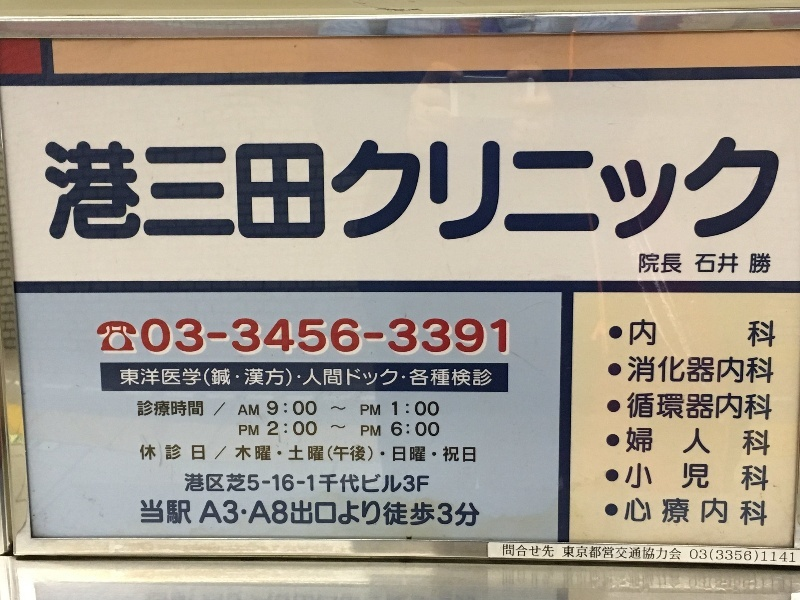text: (49, 135, 64, 253), (65, 135, 80, 253), (81, 135, 96, 253), (97, 135, 112, 253), (113, 135, 128, 253), (129, 135, 144, 253), (145, 135, 160, 253), (161, 135, 176, 253), (177, 135, 192, 253), (193, 135, 208, 253), (209, 135, 224, 253), (225, 135, 240, 253), (241, 135, 256, 253), (257, 135, 272, 253), (273, 135, 288, 253), (289, 135, 304, 253), (305, 135, 320, 253), (321, 135, 336, 253), (337, 135, 352, 253), (353, 135, 368, 253), (369, 135, 384, 253), (385, 135, 400, 253), (401, 135, 416, 253), (417, 135, 432, 253), (433, 135, 448, 253), (449, 135, 464, 253), (465, 135, 480, 253), (481, 135, 496, 253), (497, 135, 512, 253), (513, 135, 528, 253), (529, 135, 544, 253), (545, 135, 560, 253), (561, 135, 576, 253), (577, 135, 592, 253), (593, 135, 608, 253), (609, 135, 624, 253), (625, 135, 640, 253), (641, 135, 656, 253), (657, 135, 672, 253), (673, 135, 688, 253), (689, 135, 704, 253), (705, 135, 720, 253), (721, 135, 736, 253), (737, 135, 752, 253), (753, 135, 768, 253), (769, 135, 784, 253), (40, 135, 48, 253), (145, 315, 160, 359), (161, 315, 176, 359), (177, 315, 192, 359), (193, 315, 208, 359), (209, 315, 224, 359), (225, 315, 240, 359), (241, 315, 256, 359), (257, 315, 272, 359), (273, 315, 288, 359), (289, 315, 304, 359), (305, 315, 320, 359), (321, 315, 336, 359), (337, 315, 352, 359), (353, 315, 368, 359), (369, 315, 384, 359), (385, 315, 400, 359), (401, 315, 416, 359), (417, 315, 432, 359), (433, 315, 448, 359), (449, 315, 464, 359), (465, 315, 480, 359), (481, 315, 496, 359), (497, 315, 512, 359), (785, 135, 790, 253), (753, 498, 769, 530), (641, 354, 656, 388), (657, 354, 672, 388), (673, 354, 688, 388), (689, 354, 704, 388), (705, 354, 720, 388), (721, 354, 736, 388), (737, 354, 752, 388), (753, 354, 768, 388), (625, 390, 640, 423), (641, 390, 656, 423), (657, 390, 672, 423), (673, 390, 688, 423), (689, 390, 704, 423), (705, 390, 720, 423), (721, 390, 736, 423), (737, 390, 752, 423), (753, 390, 768, 423), (641, 426, 656, 458), (657, 426, 672, 458), (673, 426, 688, 458), (689, 426, 704, 458), (705, 426, 720, 458), (721, 426, 736, 458), (737, 426, 752, 458), (753, 426, 768, 458), (625, 498, 640, 530), (641, 498, 656, 530), (657, 498, 672, 530), (673, 498, 688, 530), (689, 498, 704, 530), (705, 498, 720, 530), (721, 498, 736, 530), (737, 498, 752, 530), (626, 426, 640, 458), (627, 354, 640, 388), (641, 320, 656, 349), (657, 320, 672, 349), (673, 320, 688, 349), (689, 320, 704, 349), (705, 320, 720, 349), (721, 320, 736, 349), (737, 320, 752, 349), (753, 320, 768, 349), (641, 465, 656, 493), (657, 465, 672, 493), (673, 465, 688, 493), (689, 465, 704, 493), (705, 465, 720, 493), (721, 465, 736, 493), (737, 465, 752, 493), (753, 465, 768, 493), (705, 250, 720, 277), (721, 250, 736, 277), (737, 250, 752, 277), (753, 250, 768, 277), (257, 501, 272, 527), (273, 501, 288, 527), (289, 501, 304, 527), (305, 501, 320, 527), (321, 501, 336, 527), (337, 501, 352, 527), (353, 501, 368, 527), (369, 501, 384, 527), (385, 501, 400, 527), (401, 501, 416, 527), (417, 501, 432, 527), (433, 501, 448, 527), (449, 501, 464, 527), (465, 501, 480, 527), (177, 501, 193, 525), (627, 465, 640, 493), (641, 253, 656, 277), (657, 253, 672, 277), (145, 501, 160, 525), (161, 501, 176, 525), (209, 501, 224, 525), (628, 320, 640, 349), (225, 501, 239, 525), (129, 367, 144, 389), (145, 367, 160, 389), (161, 367, 176, 389), (177, 367, 192, 389), (193, 367, 208, 389), (209, 367, 224, 389), (225, 367, 240, 389), (241, 367, 256, 389), (257, 367, 272, 389), (273, 367, 288, 389), (289, 367, 304, 389), (305, 367, 320, 389), (321, 367, 336, 389), (337, 367, 352, 389), (353, 367, 368, 389), (369, 367, 384, 389), (385, 367, 400, 389), (401, 367, 416, 389), (417, 367, 432, 389), (433, 367, 448, 389), (449, 367, 464, 389), (465, 367, 480, 389), (145, 442, 160, 464), (161, 442, 176, 464), (177, 442, 192, 464), (241, 444, 256, 464), (257, 444, 272, 464), (193, 473, 208, 493), (209, 473, 224, 493), (225, 473, 240, 493), (241, 473, 256, 493), (257, 473, 272, 493), (273, 473, 288, 493), (289, 473, 304, 493), (305, 473, 320, 493), (321, 473, 336, 493), (337, 473, 352, 493), (353, 473, 368, 493), (369, 473, 384, 493), (385, 473, 400, 493), (401, 473, 416, 493), (673, 253, 685, 277), (481, 367, 494, 389), (193, 442, 206, 464), (145, 401, 160, 420), (161, 401, 176, 420), (177, 401, 192, 420), (241, 420, 256, 439), (257, 420, 272, 439), (273, 420, 288, 439), (289, 420, 304, 439), (305, 420, 320, 439), (321, 420, 336, 439), (337, 420, 352, 439), (353, 420, 368, 439), (369, 420, 384, 439), (385, 420, 400, 439), (401, 420, 416, 439), (417, 420, 432, 439), (289, 445, 304, 463), (305, 445, 320, 463), (321, 445, 336, 463), (337, 445, 352, 463), (353, 445, 368, 463), (193, 401, 207, 420), (769, 320, 778, 349), (417, 473, 430, 493), (695, 250, 704, 277), (241, 401, 256, 417), (257, 401, 272, 417), (273, 401, 288, 417), (289, 401, 304, 417), (305, 401, 320, 417), (321, 401, 336, 417), (337, 401, 352, 417), (353, 401, 368, 417), (369, 401, 384, 417), (385, 401, 400, 417), (401, 401, 416, 417), (417, 401, 432, 417), (401, 446, 416, 462), (449, 446, 464, 462), (769, 354, 776, 388), (769, 390, 776, 423), (577, 547, 592, 562), (593, 547, 608, 562), (609, 547, 624, 562), (625, 547, 640, 562), (641, 547, 656, 562), (657, 547, 672, 562), (139, 315, 144, 359), (118, 367, 128, 389), (562, 547, 576, 562), (705, 550, 720, 564), (721, 550, 736, 564), (737, 550, 752, 564), (753, 550, 768, 564), (769, 550, 784, 564), (690, 550, 704, 564), (513, 545, 528, 558), (529, 545, 544, 558), (465, 446, 476, 462), (417, 446, 426, 462), (185, 473, 192, 493), (214, 402, 224, 416), (785, 550, 795, 564), (673, 547, 682, 562), (137, 401, 144, 420), (433, 420, 440, 439), (392, 446, 400, 462), (503, 545, 512, 558), (545, 545, 554, 558), (433, 401, 440, 417), (139, 442, 144, 464), (769, 250, 773, 277), (369, 445, 375, 463), (769, 426, 772, 458), (140, 501, 144, 525), (513, 315, 515, 359), (769, 465, 772, 493), (443, 446, 448, 462), (218, 447, 224, 460), (237, 444, 240, 464), (638, 253, 640, 277), (623, 498, 624, 530), (207, 501, 208, 525), (273, 444, 274, 464), (239, 420, 240, 439), (225, 402, 226, 416), (225, 447, 226, 460)
